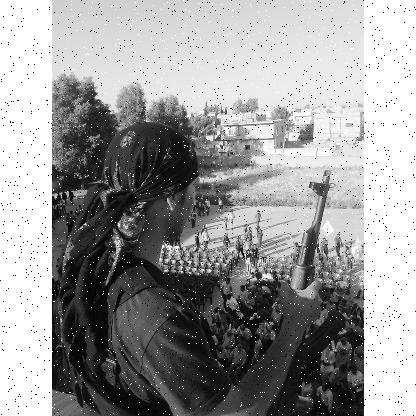gun: (282, 171, 340, 415)
